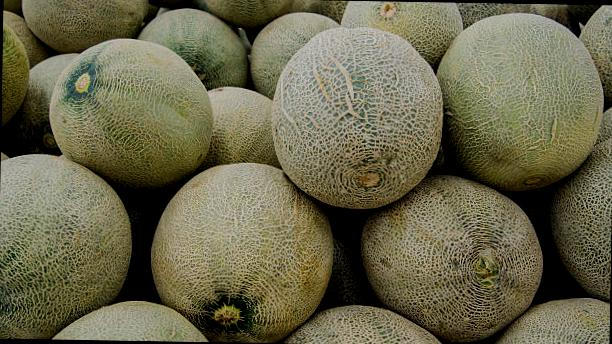Melon Ripe: (149, 160, 335, 344), (270, 25, 446, 211), (358, 171, 545, 344), (435, 11, 605, 193), (48, 38, 214, 194), (0, 151, 133, 341)
